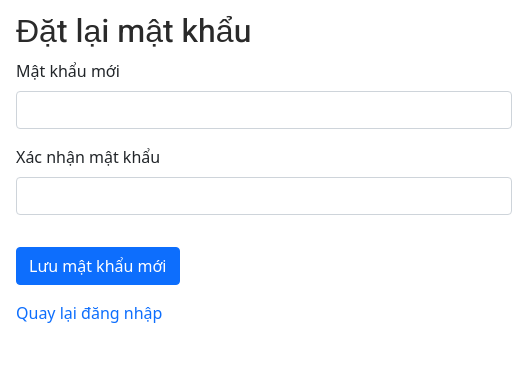
reset rejects unmatched confirmation before posting the action token
Type "NewPassword123!" into the password field labelled "Mật khẩu mới" at (264,110), box top-left (16, 91), bottom-right (512, 129)
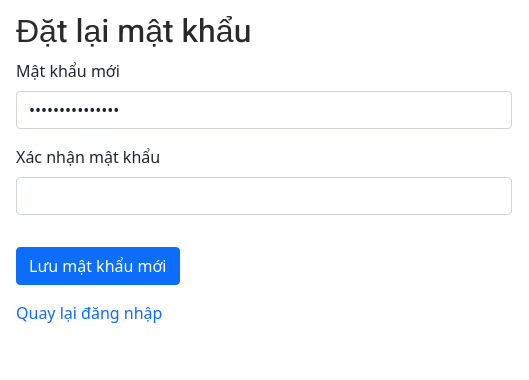
Type "Different123!" into the password field labelled "Xác nhận mật khẩu" at (264,196), box top-left (16, 177), bottom-right (512, 215)
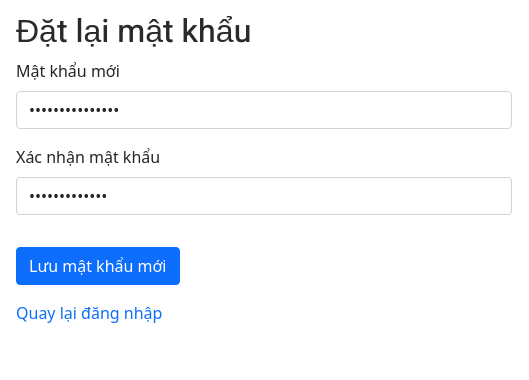
Click the button at (98,266), box top-left (16, 247), bottom-right (180, 285)
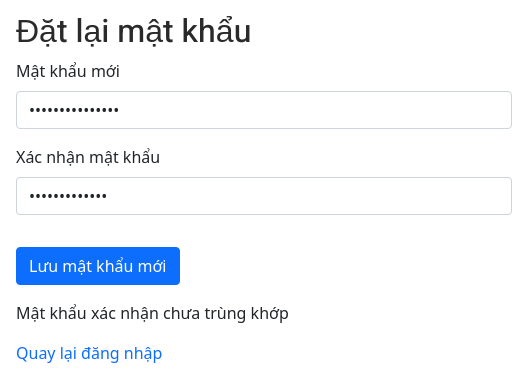
Result: the message shows "chưa trùng khớp" at top-left (16, 302), bottom-right (289, 324)
